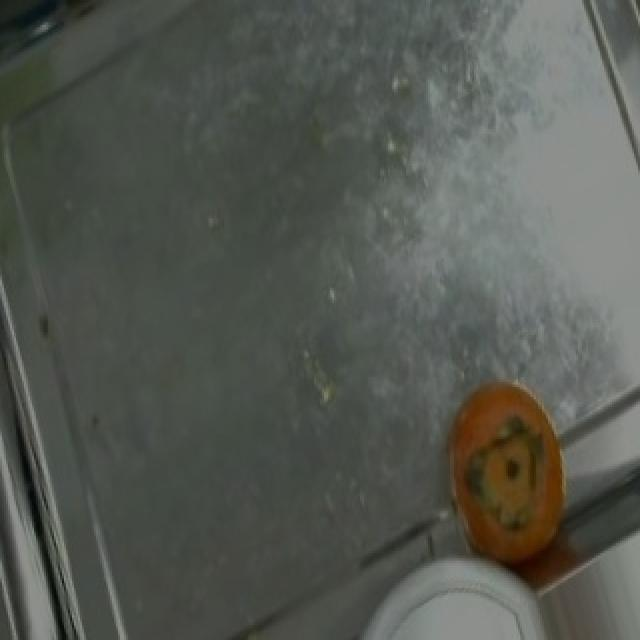Fruit: (422, 357, 592, 588)
